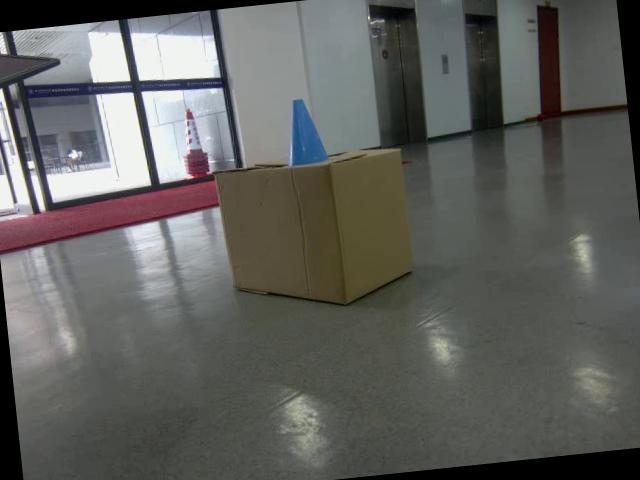blue_barrel: (280, 94, 334, 168)
